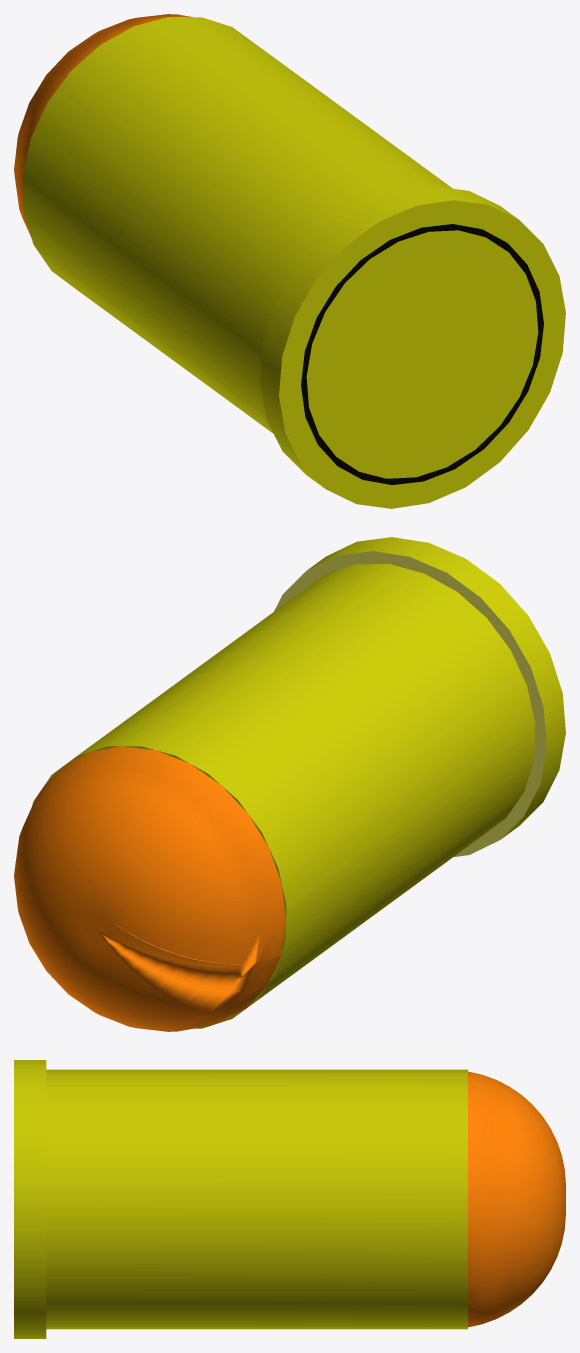
The model's file is BULLET.fbx.
3 views of the same model, one above another, from view 1: azimuth 30°, elevation 25°; view 2: azimuth 150°, elevation 25°; view 3: azimuth 270°, elevation 25° (orthographic). The views are drawn at different scales.
Visible parts, largest first — view 1: Model; view 2: Model; view 3: Model.
Part boxes in pixels (bbox=[...]): Model: bbox=[14, 14, 565, 508]; Model: bbox=[14, 537, 565, 1031]; Model: bbox=[14, 1060, 565, 1338].
Bounding box in the file's own units: 0.2597 × 0.2597 × 0.5107.
